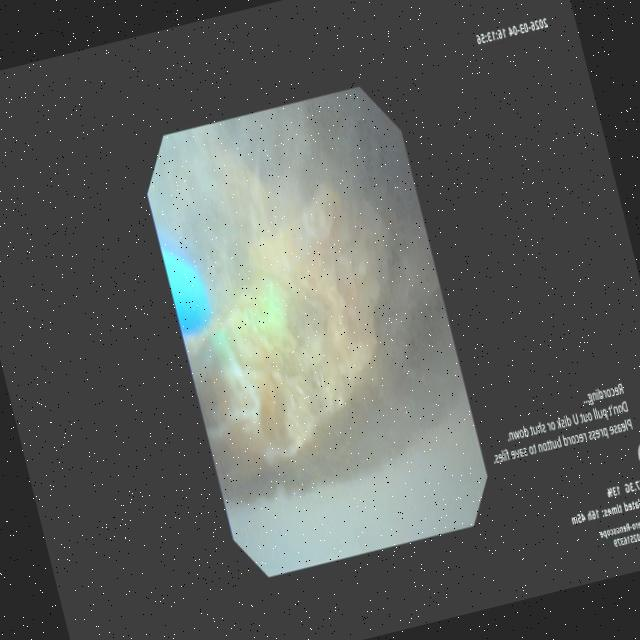laser_dot: (245, 278, 286, 335)
stone-new: (188, 154, 391, 487), (281, 407, 281, 408)
